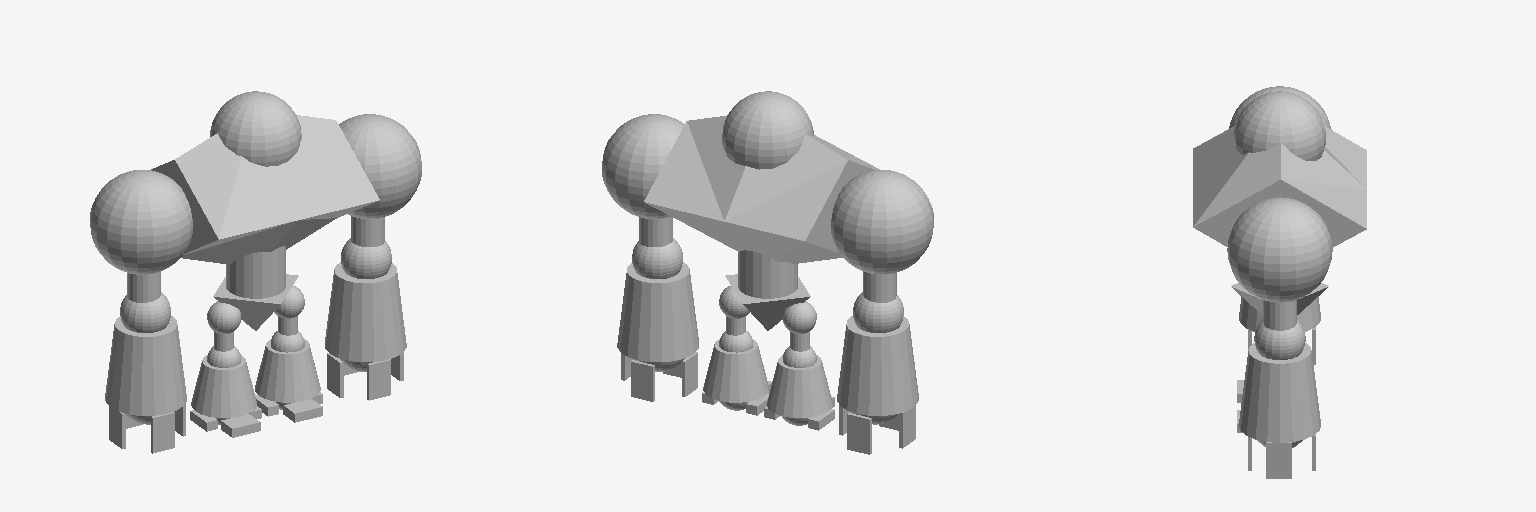
The model's file is Blocking_Robot.obj.
3 views of the same model, side by side, from view 1: azimuth 30°, elevation 25°; view 2: azimuth 150°, elevation 25°; view 3: azimuth 270°, elevation 25° (orthographic).
Parts seen in each view (by area): view 1: Upper_Torso Upper_TorsoGroup, Right_Shoulder Right_ArmGroup, Right_ArmGroup Right_Forearm, Right_LegGroup Right_Calf, Upper_TorsoGroup Head, Right_ArmGroup Right_Elbow, Abs Lower_TorsoGroup, Right_ArmGroup Right_Bicep, Right_ArmGroup Right_Claw01, Lower_TorsoGroup Hip, Right_HipJoint Right_LegGroup, Right_LegGroup Right_FootClaw01 (+4 smaller); view 2: Upper_Torso Upper_TorsoGroup, Right_Shoulder Right_ArmGroup, Right_ArmGroup Right_Forearm, Right_LegGroup Right_Calf, Upper_TorsoGroup Head, Right_ArmGroup Right_Elbow, Abs Lower_TorsoGroup, Right_ArmGroup Right_Bicep, Right_ArmGroup Right_Claw04, Lower_TorsoGroup Hip, Right_HipJoint Right_LegGroup, Right_LegGroup Right_Knee (+3 smaller); view 3: Upper_Torso Upper_TorsoGroup, Right_Shoulder Right_ArmGroup, Right_ArmGroup Right_Forearm, Upper_TorsoGroup Head, Right_ArmGroup Right_Elbow, Right_ArmGroup Right_Claw02, Right_ArmGroup Right_Bicep, Lower_TorsoGroup Hip.
Part boxes in pixels (x1,y1,x2,y2): Upper_Torso Upper_TorsoGroup: (151,115,379,264); Right_Shoulder Right_ArmGroup: (90,114,421,274); Right_ArmGroup Right_Forearm: (105,262,406,415); Right_LegGroup Right_Calf: (191,339,320,417); Upper_TorsoGroup Head: (210,91,301,166); Right_ArmGroup Right_Elbow: (120,238,391,332); Abs Lower_TorsoGroup: (226,246,285,298); Right_ArmGroup Right_Bicep: (127,216,384,302); Right_ArmGroup Right_Claw01: (151,359,390,453); Lower_TorsoGroup Hip: (213,274,298,330); Right_HipJoint Right_LegGroup: (207,286,304,333); Right_LegGroup Right_FootClaw01: (221,399,322,437); Upper_Torso Upper_TorsoGroup: (644,116,879,263); Right_Shoulder Right_ArmGroup: (602,114,933,274); Right_ArmGroup Right_Forearm: (617,262,918,415); Right_LegGroup Right_Calf: (703,339,832,417); Upper_TorsoGroup Head: (722,91,813,169); Right_ArmGroup Right_Elbow: (632,238,903,332); Abs Lower_TorsoGroup: (738,250,797,298); Right_ArmGroup Right_Bicep: (639,217,896,302); Right_ArmGroup Right_Claw04: (631,360,871,454); Lower_TorsoGroup Hip: (725,274,810,330); Right_HipJoint Right_LegGroup: (719,286,816,333); Right_LegGroup Right_Knee: (719,331,816,367); Upper_Torso Upper_TorsoGroup: (1193,125,1366,247); Right_Shoulder Right_ArmGroup: (1227,86,1332,302); Right_ArmGroup Right_Forearm: (1239,296,1320,442); Upper_TorsoGroup Head: (1234,91,1325,160); Right_ArmGroup Right_Elbow: (1254,320,1305,359); Right_ArmGroup Right_Claw02: (1266,442,1291,478); Right_ArmGroup Right_Bicep: (1263,300,1296,330); Lower_TorsoGroup Hip: (1231,283,1328,314).
Size of the model in its own units: 4.35 by 4.18 by 2.06.